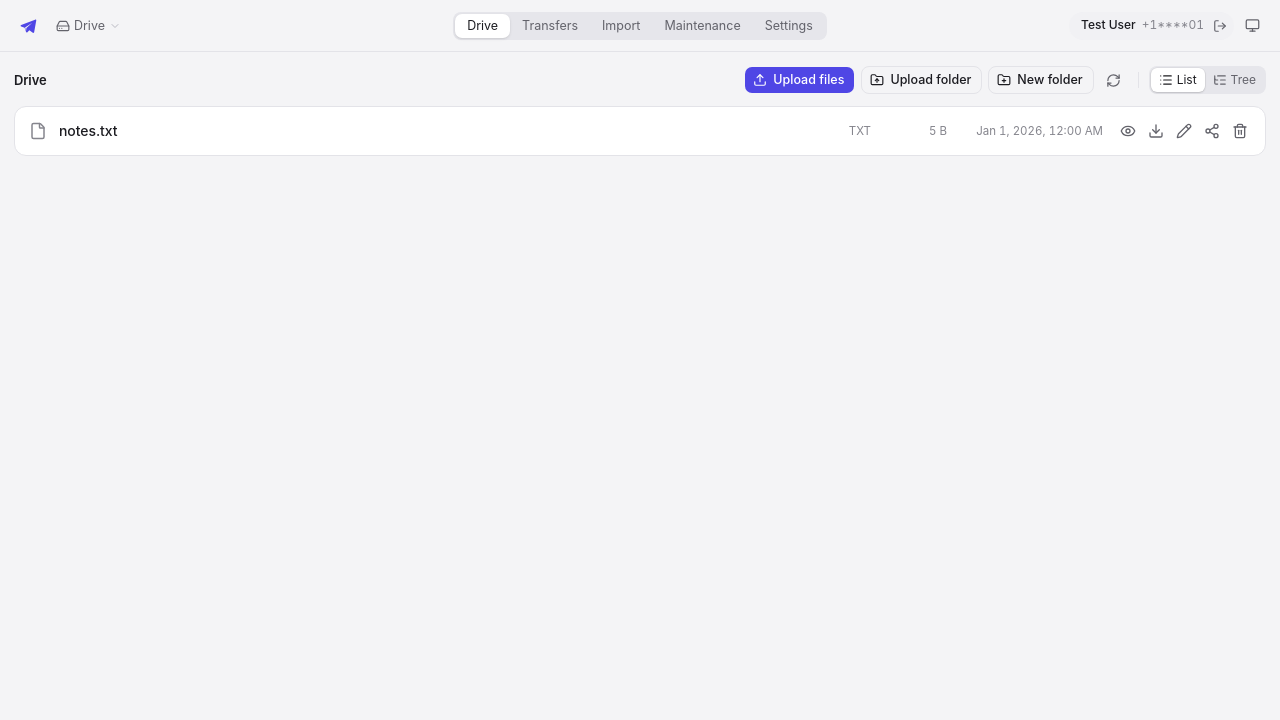
linking a discussion group updates the channel status
Expected: the list named "Files in /" is shown, [14, 106, 1266, 156]
Click the button with aria-label "Switch drive".
click(88, 26)  # box [48, 12, 129, 40]
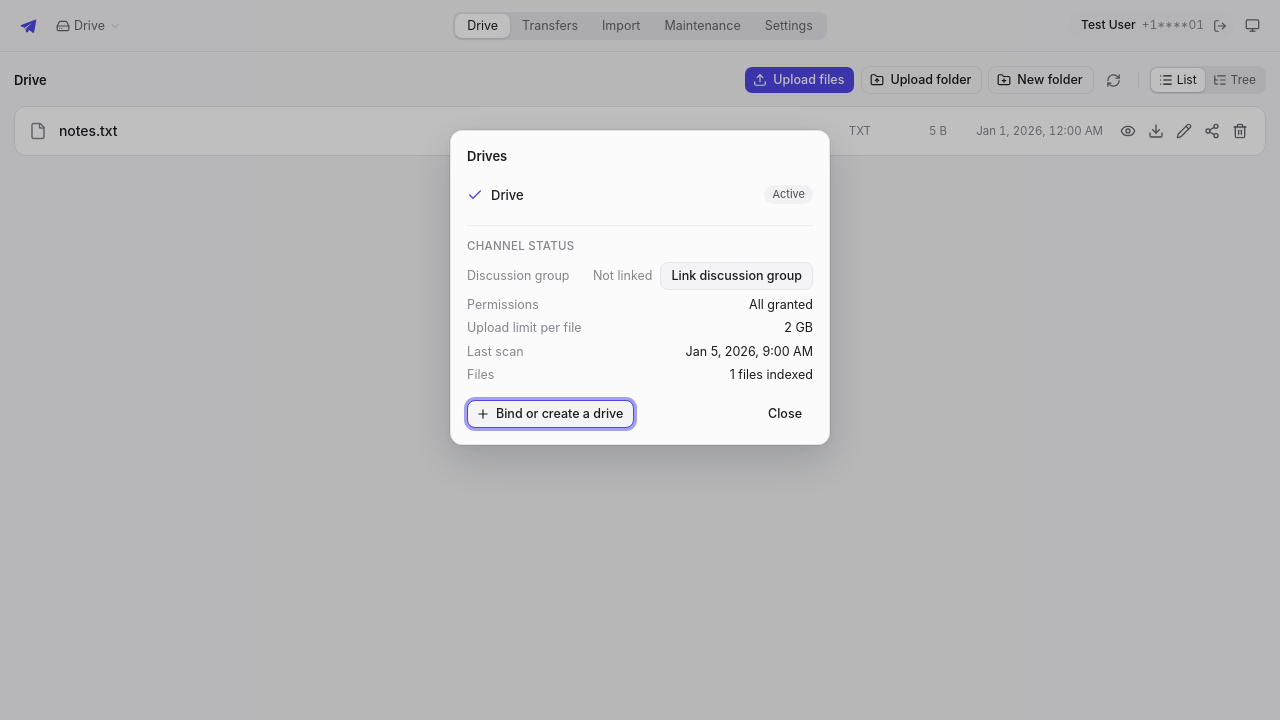
Expected: the text "Not linked" is shown, [593, 267, 652, 285]
Click the button "Link discussion group".
click(737, 276)  # box [660, 262, 813, 290]
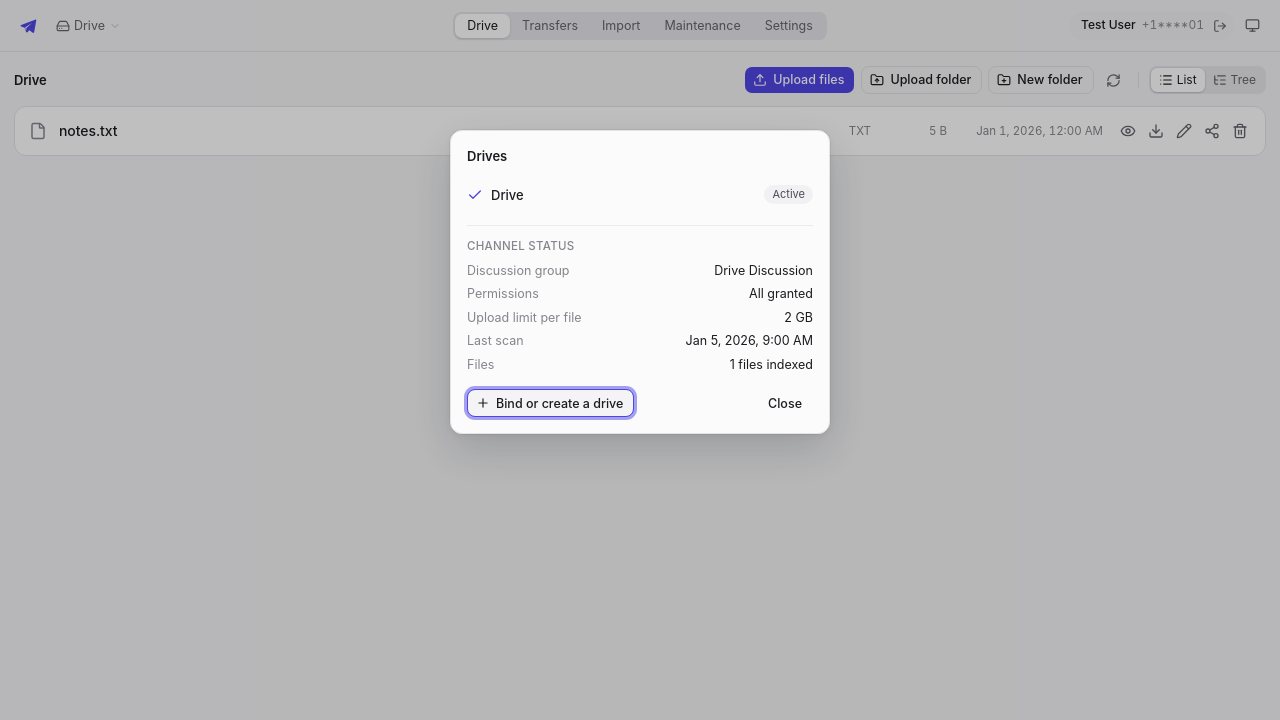
Expected: the text "Drive Discussion" is shown, [714, 262, 813, 279]
Expected: the text "Not linked" is gone
